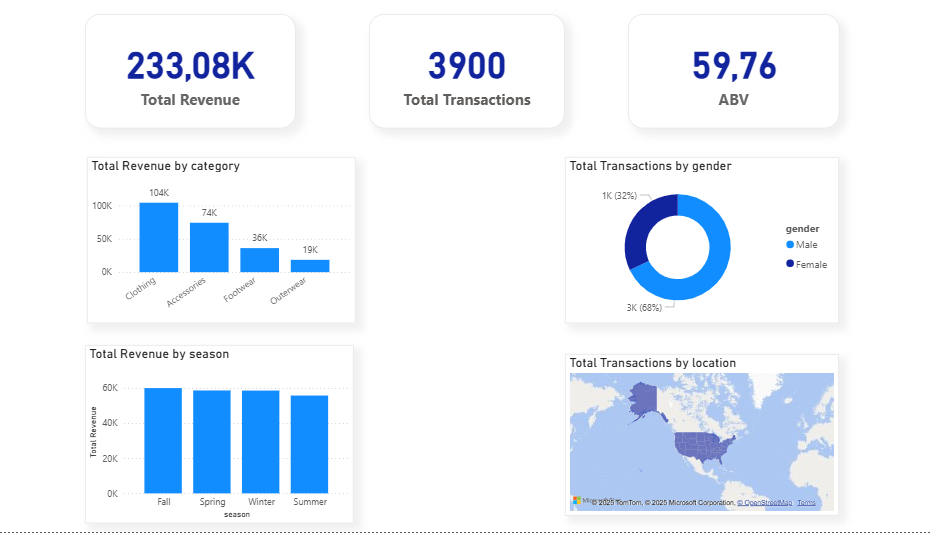

What the dashboard file says about the page in this screenshot:
{"tool":"powerbi","page":{"name":"Page ","canvas":[1280,720],"ordinal":0},"visuals":[{"type":"card","fields":{"Values":["retail_data.Total Revenue"]},"box":[114.1,32.2,279.5,152.2],"z":0},{"type":"card","fields":{"Values":["retail_data.Total Transactions"]},"box":[491.7,32.2,260.5,152.2],"z":1000},{"type":"card","fields":{"Values":["retail_data.ABV"]},"box":[835.6,32.2,281,152.2],"z":2000},{"type":"columnChart","fields":{"Category":["retail_data.category"],"Y":["retail_data.Total Revenue"]},"box":[117.1,222.4,357.1,221],"z":3000},{"type":"donutChart","fields":{"Category":["retail_data.gender"],"Y":["retail_data.Total Transactions"]},"box":[752.2,222.4,364.4,221],"z":4000},{"type":"clusteredColumnChart","fields":{"Category":["retail_data.season"],"Y":["retail_data.Total Revenue"]},"box":[114.1,471.2,357.1,237.1],"z":5000},{"type":"filledMap","fields":{"Category":["retail_data.location"]},"box":[752.2,482.9,364.4,215.1],"z":6000}]}

Visuals, with their boxes in screenshot pixels (x1, y1, x2, y2), scaled from the page's 1280x720 canvas onto the 932x533 screenshot:
card - retail_data.Total Revenue: (83, 24, 287, 137)
card - retail_data.Total Transactions: (358, 24, 548, 137)
card - retail_data.ABV: (608, 24, 813, 137)
columnChart - retail_data.category x retail_data.Total Revenue: (85, 165, 345, 328)
donutChart - retail_data.gender x retail_data.Total Transactions: (548, 165, 813, 328)
clusteredColumnChart - retail_data.season x retail_data.Total Revenue: (83, 349, 343, 524)
filledMap - retail_data.location: (548, 357, 813, 517)
